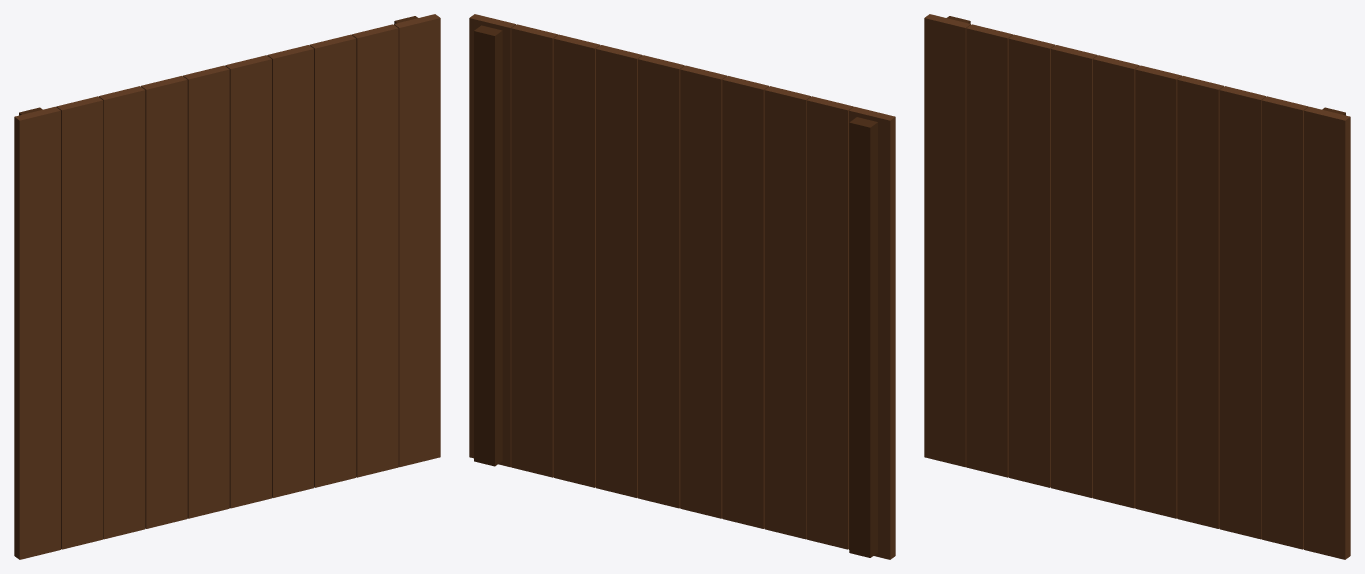
File: SM_Izba_Floor4m_1348_LOD1.obj
3 renders of one model, left to right at view 1: azimuth 30°, elevation 25°; view 2: azimuth 150°, elevation 25°; view 3: azimuth 330°, elevation 25°, orthographic.
Parts seen in each view (by area): view 1: planed_floorboard; view 2: planed_floorboard, floor_joist; view 3: planed_floorboard.
Boxes of the visible parts, box(x1,y1,x2,y2) form: planed_floorboard: box(14, 14, 440, 559); planed_floorboard: box(469, 14, 895, 559); floor_joist: box(474, 25, 877, 557); planed_floorboard: box(924, 14, 1350, 559).
Size of the model in its own units: 3.99 by 3.98 by 0.215.
